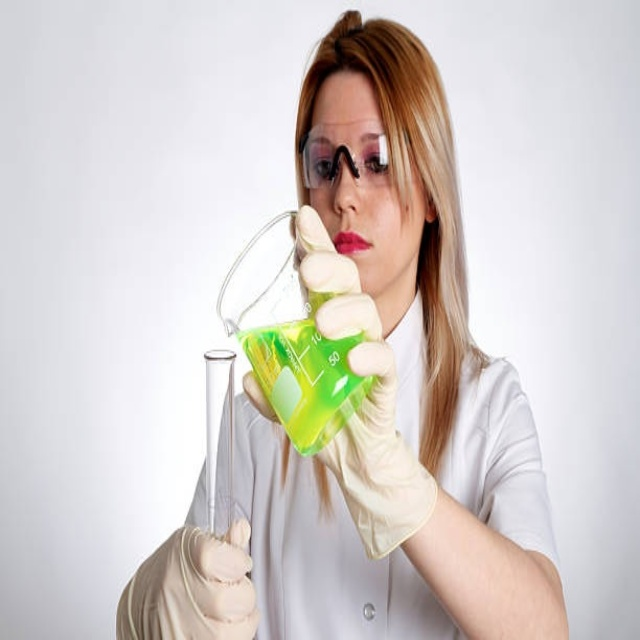Gafas: (298, 131, 397, 190)
Guantes: (243, 206, 439, 558), (118, 511, 260, 639)
Sin_mascara: (333, 221, 378, 264)
